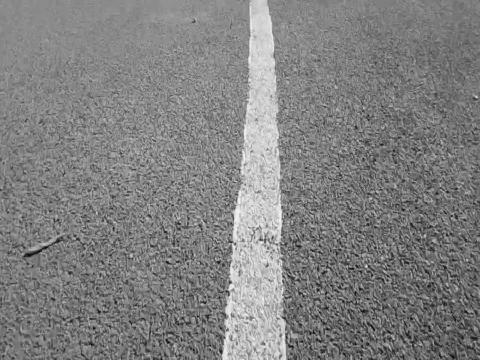Lines: (223, 0, 285, 360)
